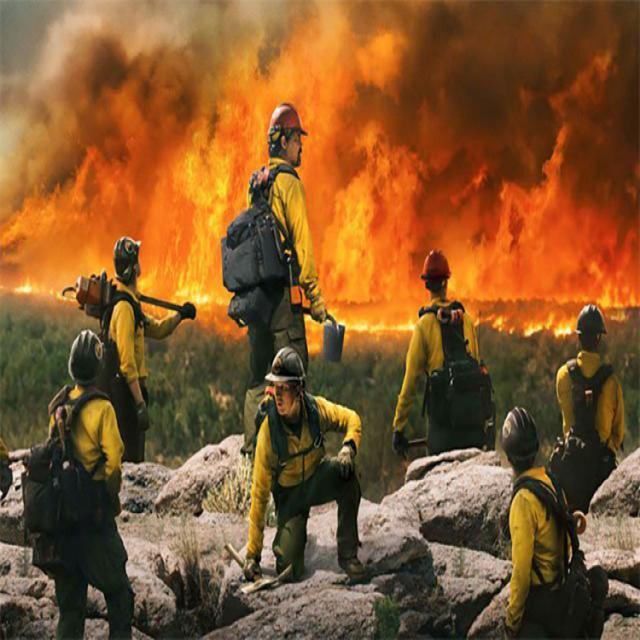Fire: (0, 87, 257, 320), (298, 156, 428, 355), (463, 255, 640, 339)
Smoke: (328, 0, 639, 240), (2, 0, 244, 222), (465, 0, 640, 288)
